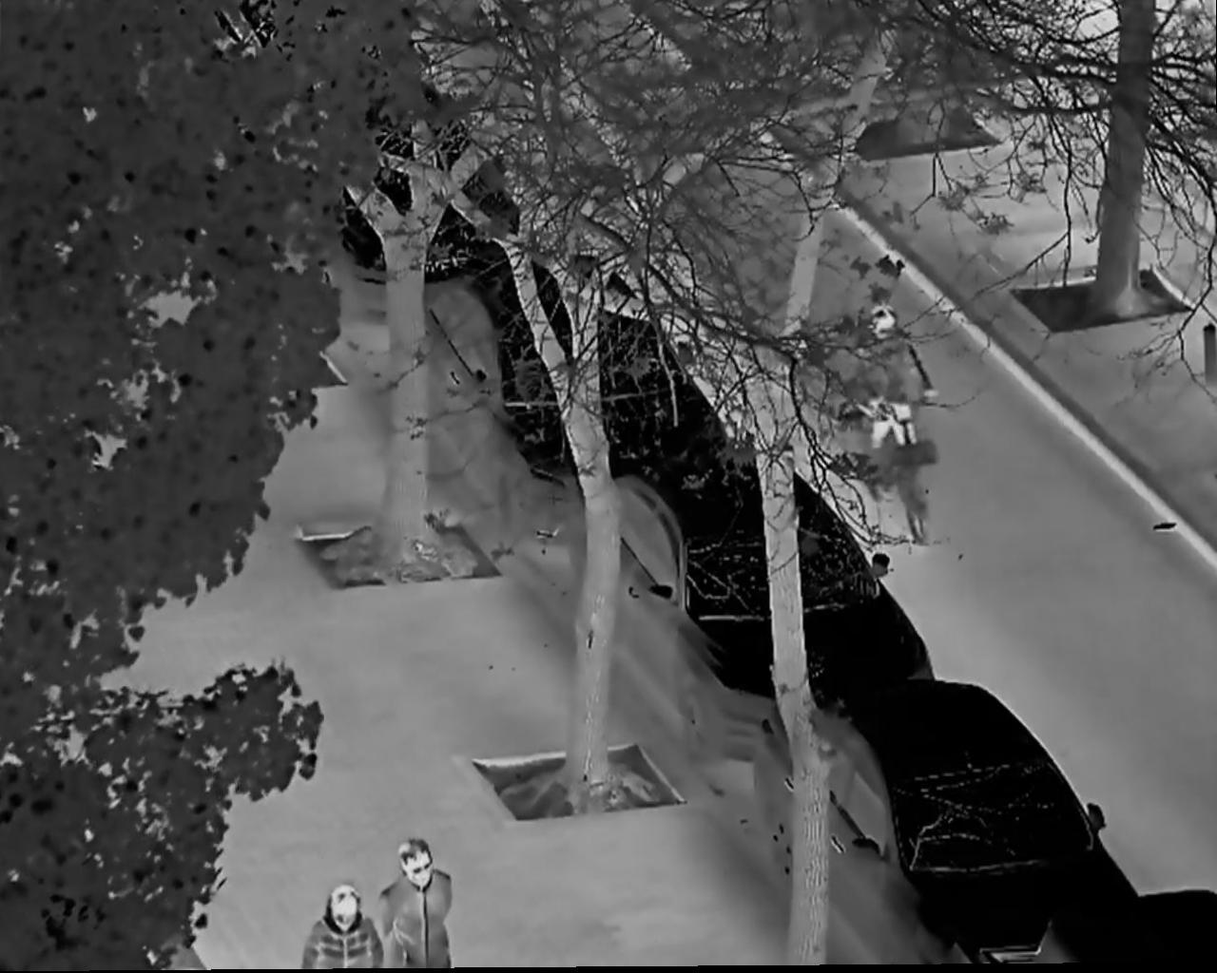person: (854, 305, 935, 465), (380, 839, 455, 973), (301, 884, 385, 973)
